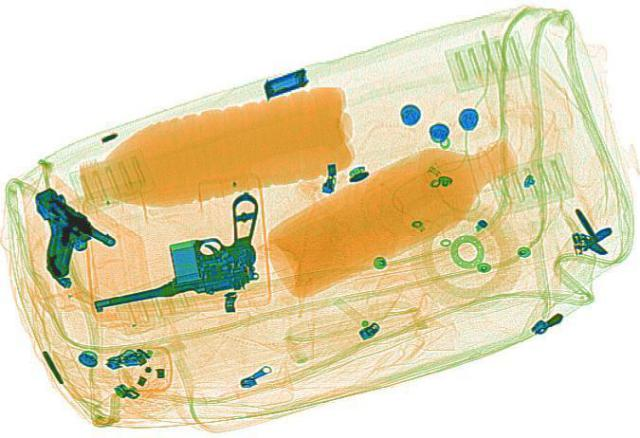Gun: (58, 187, 292, 311), (3, 193, 129, 271)
